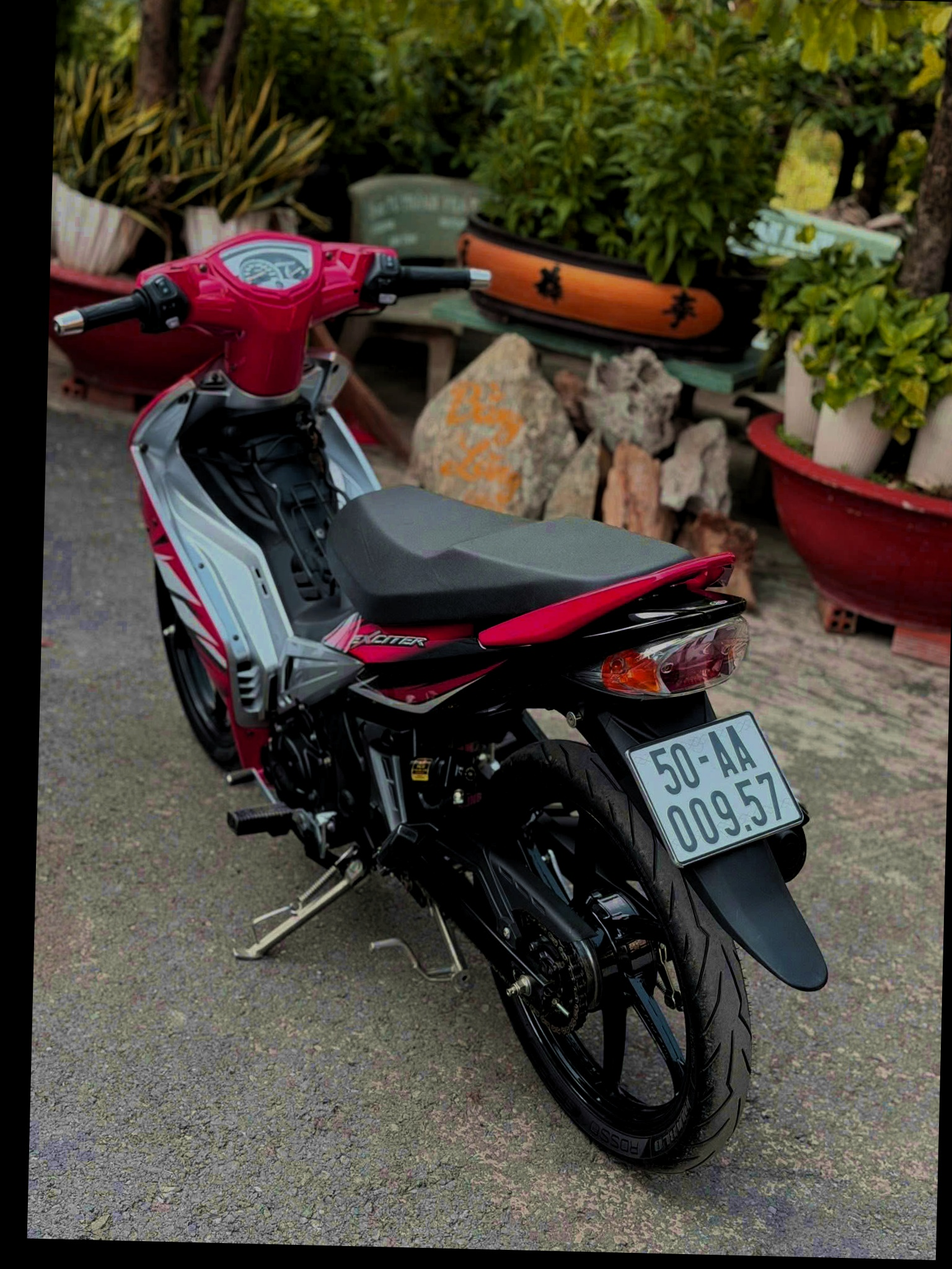Bien-so: (634, 674, 856, 842)
